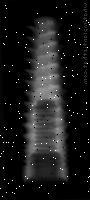Implant Direct: (23, 15, 70, 183)
